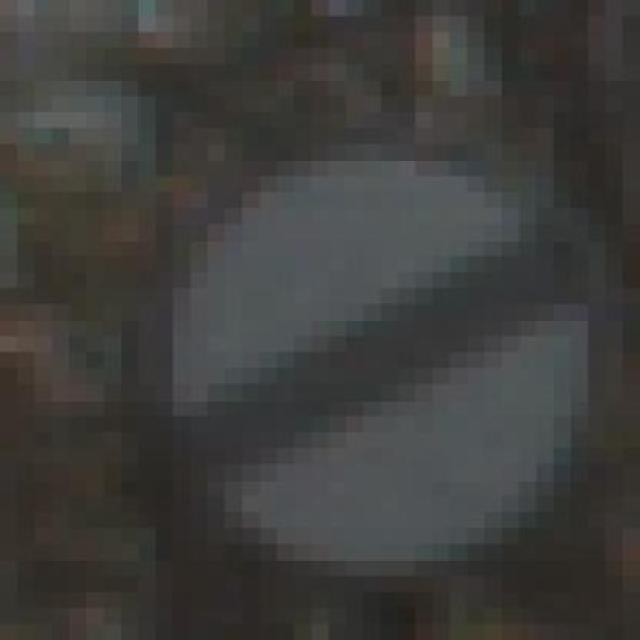End of all speed and passing limits: (139, 129, 623, 576)
